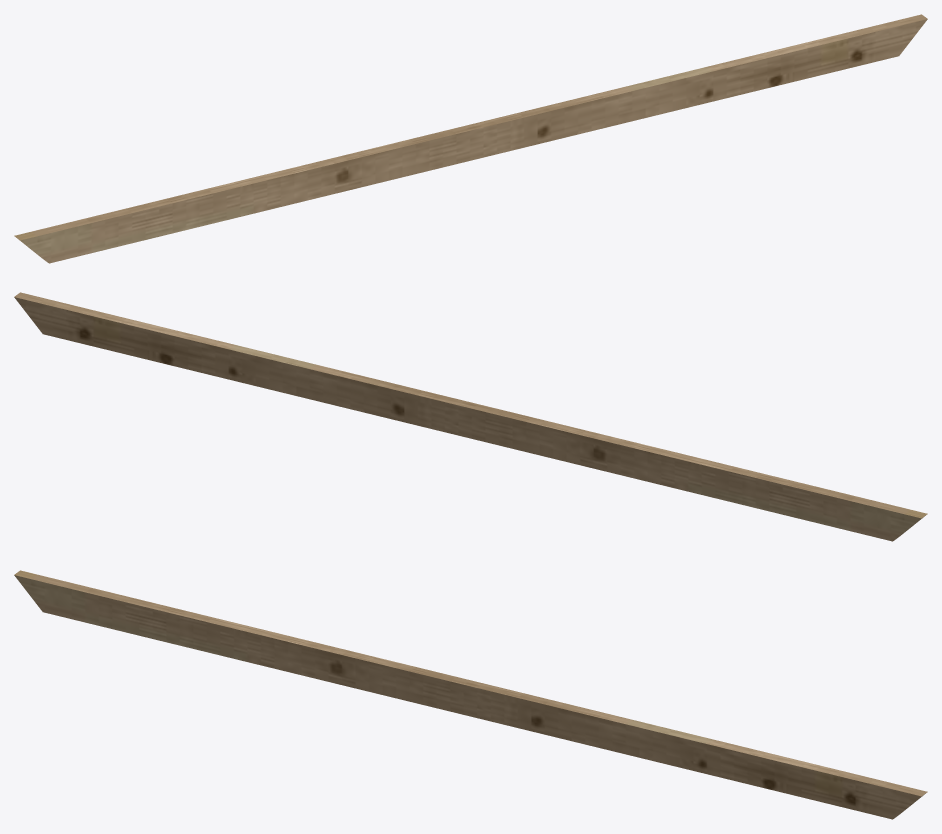
Rendered from Joglo_part_66.fbx.
The picture shows the model from 3 angles, top to bottom: view 1: azimuth 30°, elevation 25°; view 2: azimuth 150°, elevation 25°; view 3: azimuth 330°, elevation 25°; orthographic projection.
Parts seen in each view (by area): view 1: Mesh157_Wood___Pine_Grained_Horizontal_0.001; view 2: Mesh157_Wood___Pine_Grained_Horizontal_0.001; view 3: Mesh157_Wood___Pine_Grained_Horizontal_0.001.
Boxes of the visible parts, left/top/right/bottom form: Mesh157_Wood___Pine_Grained_Horizontal_0.001: left=14, top=14, right=927, bottom=263; Mesh157_Wood___Pine_Grained_Horizontal_0.001: left=14, top=292, right=927, bottom=541; Mesh157_Wood___Pine_Grained_Horizontal_0.001: left=14, top=570, right=927, bottom=819.
Bounding box in the file's own units: 61.97 × 1.97 × 0.7446.
